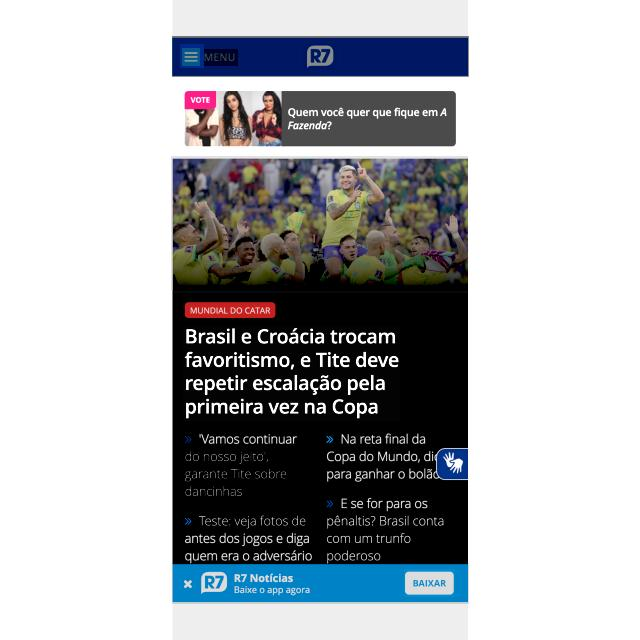CheckBox: (404, 569, 455, 597)
ImageView: (184, 89, 458, 147)
Input field: (324, 512, 447, 562), (184, 450, 291, 502), (198, 512, 308, 530)
RadioButton: (184, 301, 276, 320)
bag: (172, 36, 469, 77)
card: (171, 156, 468, 291)
carousel: (442, 452, 464, 478), (182, 48, 200, 66), (180, 577, 195, 591), (322, 496, 336, 511), (181, 433, 194, 447), (322, 433, 335, 445), (182, 516, 194, 527)
copy: (172, 157, 469, 293)
data feed: (204, 49, 238, 66)
date picker: (303, 43, 337, 70)
decoration: (180, 44, 203, 68)
header: (172, 563, 469, 604)
image: (183, 326, 400, 421)
